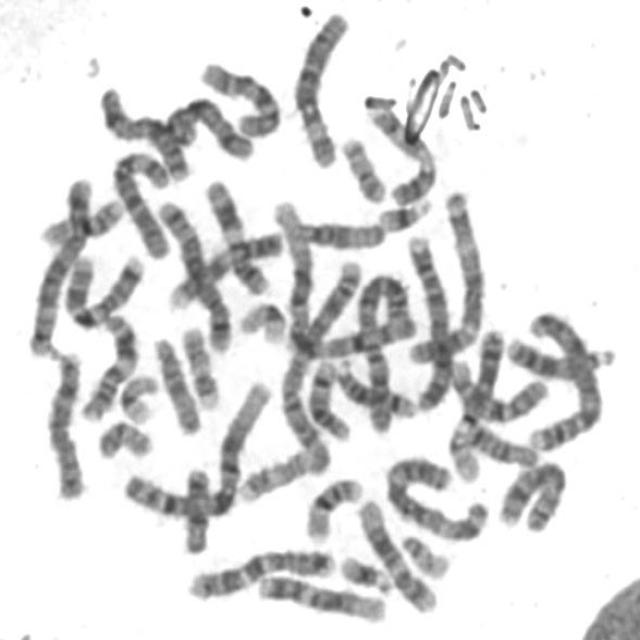A1: (268, 192, 420, 362), (116, 370, 276, 522)
A2: (269, 242, 363, 481), (349, 268, 418, 437)
A3: (403, 183, 490, 373), (379, 446, 492, 544)
B4: (519, 301, 605, 454), (401, 225, 457, 416)
B5: (22, 167, 97, 360), (149, 190, 234, 355)
C10: (444, 352, 554, 426), (194, 51, 285, 140)
C11: (199, 172, 274, 298), (75, 304, 142, 424)
C12: (350, 490, 442, 616), (252, 566, 392, 625)
C6: (286, 1, 355, 170), (106, 144, 176, 260)
C7: (180, 539, 340, 603), (58, 245, 147, 331)
C8: (42, 343, 90, 502), (492, 451, 571, 536)
C9: (164, 224, 288, 312), (362, 101, 440, 207)
D13: (455, 317, 509, 438), (502, 328, 619, 380)
D14: (328, 351, 420, 420), (302, 351, 354, 442)
D15: (147, 328, 206, 437), (270, 199, 392, 251)
E16: (35, 190, 128, 248), (300, 469, 367, 544)
E17: (234, 441, 316, 505), (175, 317, 224, 411)
E18: (457, 415, 542, 470), (177, 457, 216, 556)
F19: (233, 293, 291, 346), (113, 366, 162, 426)
F20: (335, 127, 391, 205), (91, 413, 157, 462)
G21: (334, 546, 396, 597), (372, 190, 436, 234)
G22: (395, 525, 455, 581), (443, 420, 485, 484)
X: (94, 77, 194, 183), (159, 88, 259, 162)
